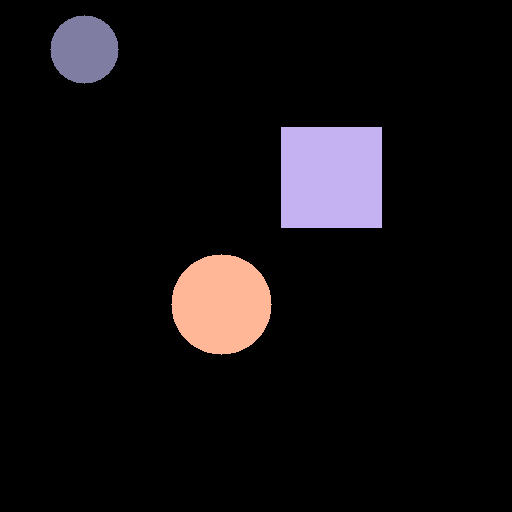circle: (171, 254, 271, 354), (50, 15, 118, 83)
square: (281, 127, 381, 227)
